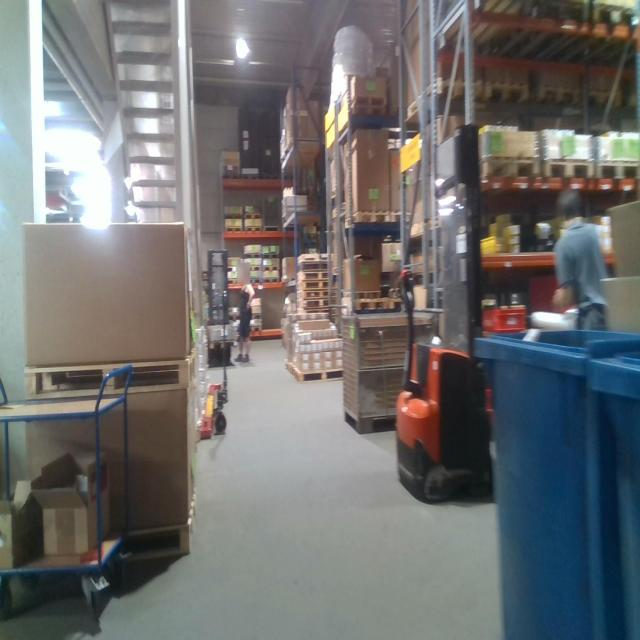pallet: (25, 348, 204, 402), (120, 488, 197, 568), (407, 73, 480, 125), (478, 154, 539, 181), (532, 82, 582, 107), (592, 2, 640, 28), (541, 157, 597, 179), (594, 159, 640, 183), (482, 81, 529, 104), (345, 207, 389, 229), (296, 364, 343, 384), (587, 92, 622, 109), (352, 92, 389, 107), (350, 298, 389, 312), (301, 298, 337, 312), (351, 103, 388, 116), (350, 287, 382, 299), (297, 262, 328, 273), (300, 280, 328, 291), (392, 210, 415, 222), (300, 291, 337, 298), (297, 273, 328, 280), (241, 173, 261, 181), (263, 264, 280, 272), (224, 213, 243, 220), (243, 252, 262, 259), (227, 265, 243, 273), (244, 213, 261, 220), (263, 276, 280, 283), (262, 253, 280, 259), (262, 175, 279, 181), (244, 226, 261, 232), (229, 313, 240, 322), (246, 265, 262, 271), (247, 278, 263, 284), (225, 227, 244, 232), (222, 174, 240, 179), (226, 279, 241, 285), (249, 313, 261, 320), (249, 326, 261, 332)
pallet_truck: (397, 114, 497, 506), (200, 282, 233, 445), (202, 233, 238, 365)
small_load_carrier: (478, 301, 525, 333)
stillage: (338, 302, 436, 433)
